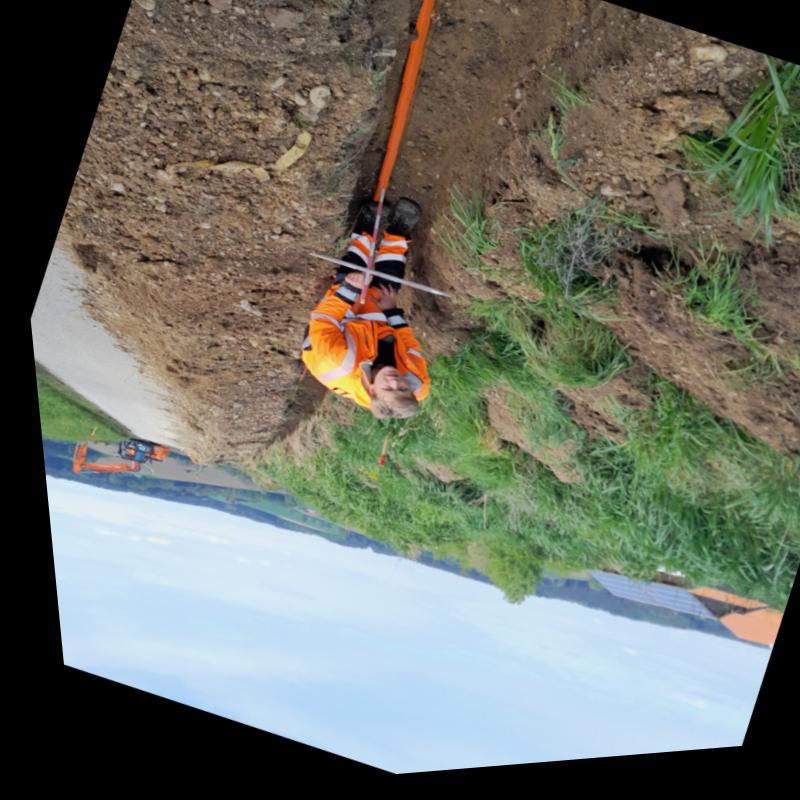Orang-Speednetrohrchen: (370, 0, 437, 203)
